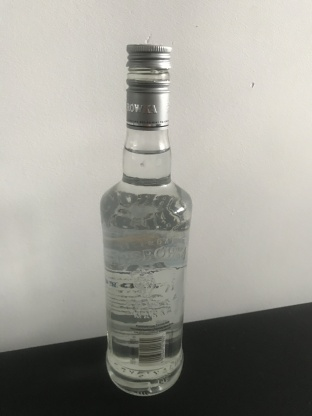nakretka: (124, 41, 173, 130)
